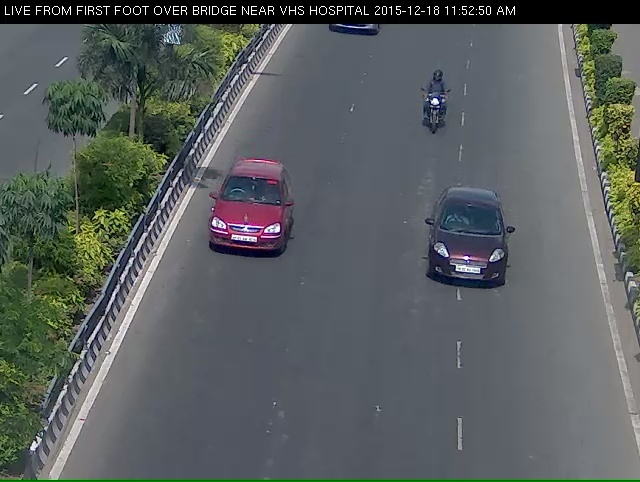Car: (428, 196, 521, 314), (198, 175, 288, 290), (322, 21, 385, 51)
Person: (416, 77, 456, 152)
